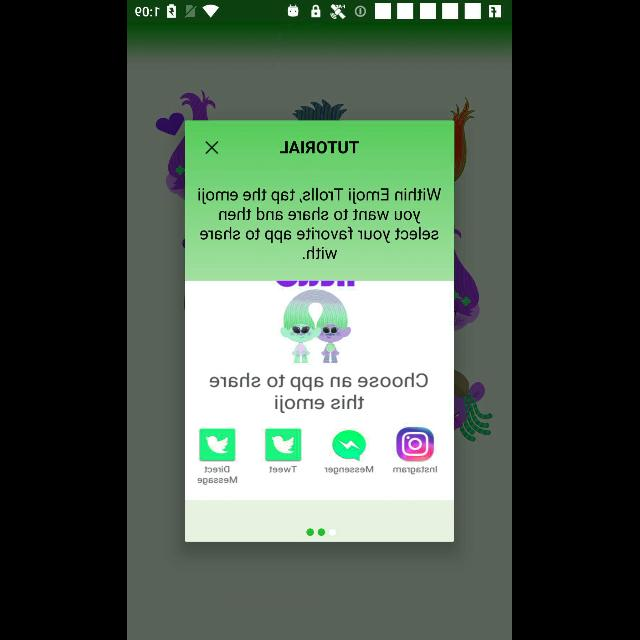icon: (200, 428, 236, 462), (266, 428, 302, 462), (207, 142, 220, 154)
image: (278, 281, 356, 364), (397, 426, 435, 462), (333, 430, 367, 460)
pageindicator: (306, 528, 338, 536)
panel: (185, 120, 455, 542)
text: (198, 188, 442, 260), (210, 372, 428, 413), (280, 142, 360, 154), (198, 466, 238, 484), (326, 466, 374, 474), (394, 466, 438, 474), (270, 466, 298, 472)
uppertaskbar: (128, 1, 512, 23)
